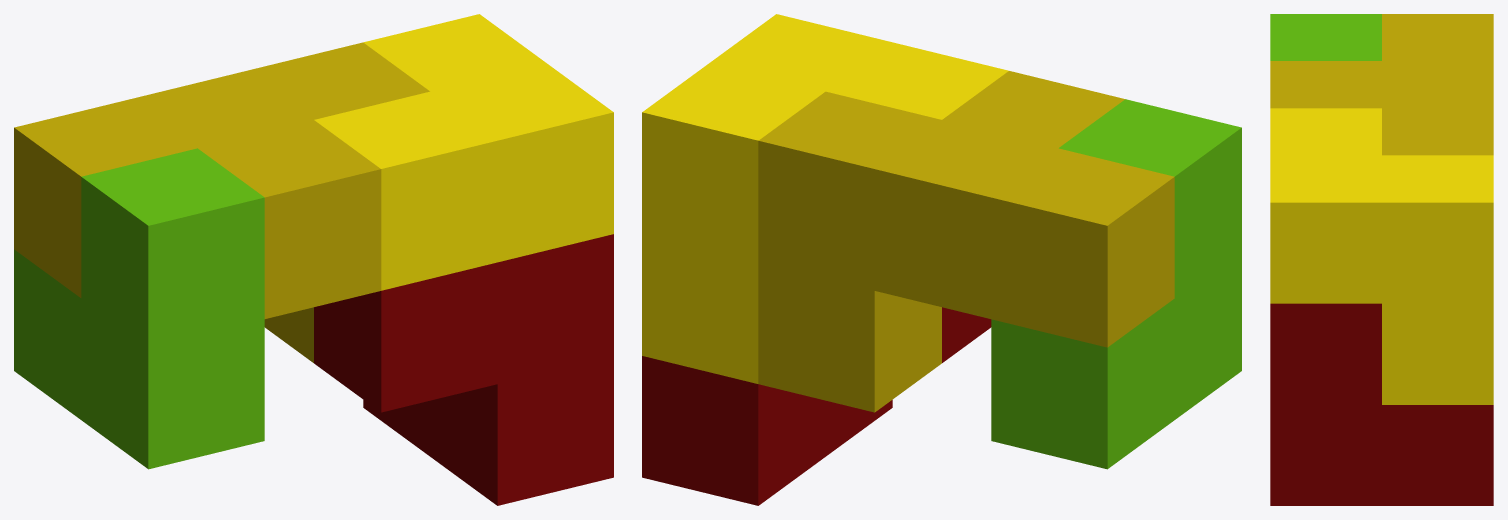
The picture shows the model from 3 angles, left to right: view 1: azimuth 30°, elevation 25°; view 2: azimuth 150°, elevation 25°; view 3: azimuth 270°, elevation 25°; orthographic projection. The views are drawn at different scales.
Visible parts, largest first — view 1: mergedBlocks(Clone); view 2: mergedBlocks(Clone); view 3: mergedBlocks(Clone).
Part boxes in pixels (x1=…): mergedBlocks(Clone): x1=14, y1=14, x2=613, y2=505; mergedBlocks(Clone): x1=642, y1=14, x2=1241, y2=505; mergedBlocks(Clone): x1=1270, y1=14, x2=1493, y2=505.
Bounding box in the file's own units: 4 × 3 × 2.
Materials: 4 (4 with a texture image).
